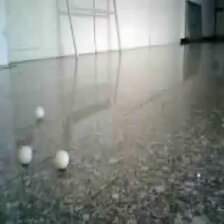w: (52, 149, 69, 168), (18, 145, 32, 164), (35, 106, 44, 119)
